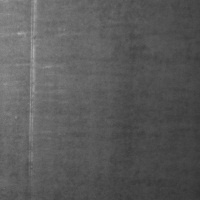scratches: (26, 0, 40, 166)
